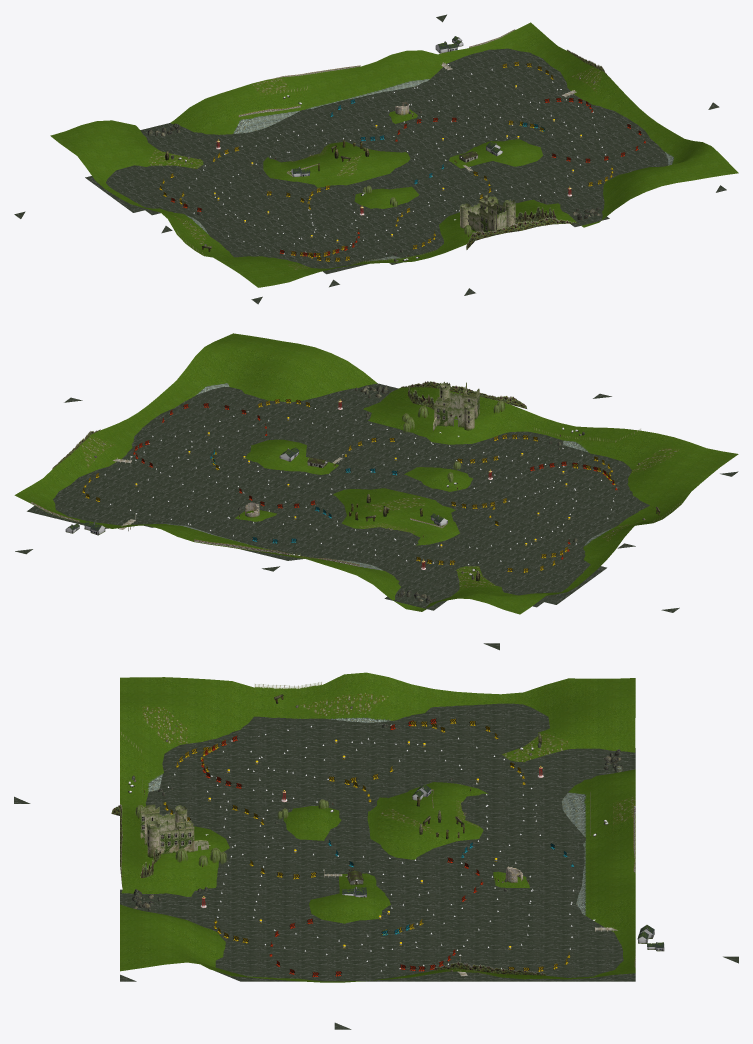
The model's file is Scotland.glb.
3 views of the same model, one above another, from view 1: azimuth 30°, elevation 25°; view 2: azimuth 150°, elevation 25°; view 3: azimuth 270°, elevation 25° (orthographic). The views are drawn at different scales.
Visible parts, largest first — view 1: Untitled* (×22), Untitled** (×9), Untitled*** (×2), Untitled, chato.3dm 5******, cote01, bosquets02, cailloux07, cailloux03; view 2: Untitled* (×22), Untitled** (×9), Untitled*** (×2), Untitled, chato.3dm 5******, bosquets02, cailloux01, cailloux04, cailloux07, cailloux 05; view 3: Untitled* (×21), Untitled** (×9), Untitled*** (×2), Untitled, chato.3dm 5******, cailloux06, cailloux 05, cailloux07, cote01.
Part boxes in pixels (left/top/right/bottom): Untitled* (×22): left=14, top=14, right=738, bottom=304; Untitled** (×9): left=140, top=56, right=604, bottom=295; Untitled*** (×2): left=163, top=82, right=543, bottom=195; Untitled: left=594, top=146, right=726, bottom=192; chato.3dm 5******: left=460, top=194, right=515, bottom=237; cote01: left=232, top=110, right=289, bottom=133; bosquets02: left=466, top=217, right=577, bottom=249; cailloux07: left=148, top=150, right=203, bottom=168; cailloux03: left=252, top=77, right=291, bottom=95; Untitled* (×22): left=14, top=333, right=738, bottom=614; Untitled** (×9): left=94, top=393, right=631, bottom=610; Untitled*** (×2): left=132, top=462, right=532, bottom=588; Untitled: left=186, top=386, right=274, bottom=417; chato.3dm 5******: left=433, top=381, right=479, bottom=430; bosquets02: left=401, top=381, right=526, bottom=408; cailloux01: left=361, top=495, right=428, bottom=512; cailloux04: left=81, top=435, right=115, bottom=468; cailloux07: left=455, top=566, right=495, bottom=588; cailloux 05: left=631, top=447, right=680, bottom=472; Untitled* (×21): left=120, top=643, right=738, bottom=1029; Untitled** (×9): left=14, top=740, right=635, bottom=946; Untitled*** (×2): left=429, top=740, right=566, bottom=946; Untitled: left=120, top=939, right=274, bottom=981; chato.3dm 5******: left=140, top=804, right=208, bottom=858; cailloux06: left=300, top=693, right=388, bottom=715; cailloux 05: left=142, top=706, right=187, bottom=744; cailloux07: left=502, top=733, right=568, bottom=762; cote01: left=561, top=792, right=590, bottom=829.
Bounding box in the file's own units: 399 × 24.16 × 316.
28 materials, 27 textured.
